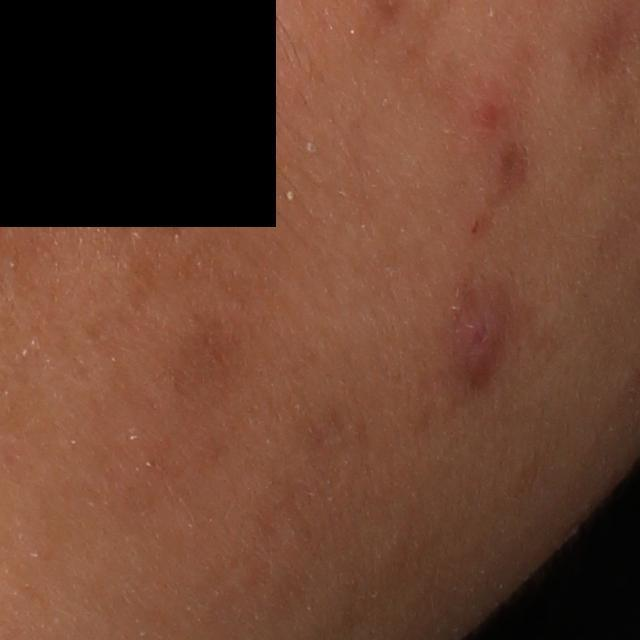papule: (438, 294, 519, 390)
